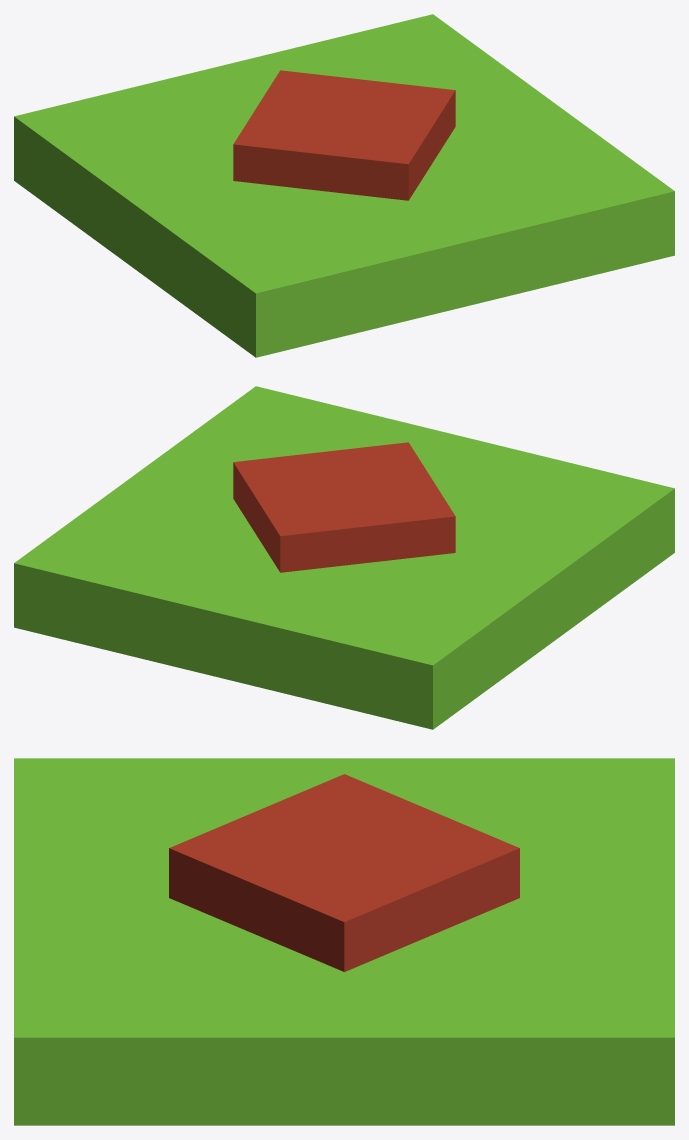
File: Obstacle_Diamond.FBX
3 views of the same model, one above another, from view 1: azimuth 30°, elevation 25°; view 2: azimuth 150°, elevation 25°; view 3: azimuth 270°, elevation 25° (orthographic). The views are drawn at different scales.
Visible parts, largest first — view 1: Obstacle_diamond_01, Walls; view 2: Obstacle_diamond_01, Walls; view 3: Obstacle_diamond_01, Walls.
Part boxes in pixels (left/top/right/bottom): Obstacle_diamond_01: left=14, top=14, right=674, bottom=357; Walls: left=233, top=70, right=455, bottom=200; Obstacle_diamond_01: left=14, top=386, right=674, bottom=729; Walls: left=233, top=442, right=455, bottom=572; Obstacle_diamond_01: left=14, top=758, right=674, bottom=1125; Walls: left=169, top=774, right=519, bottom=971.
Size of the model in its own units: 0.9999 by 0.9999 by 0.23.
